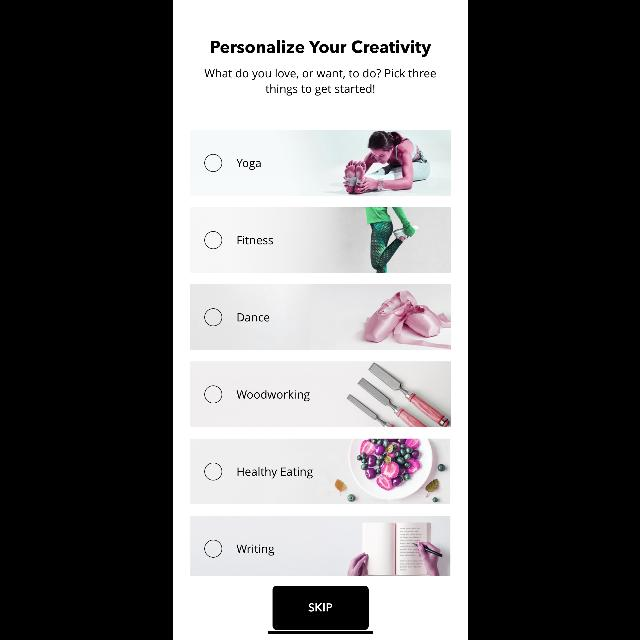backgroundimage: (190, 130, 450, 196), (190, 284, 450, 350), (190, 438, 450, 504), (190, 208, 450, 272), (190, 362, 450, 426), (190, 516, 450, 576)
checkbox: (204, 539, 222, 557), (203, 385, 221, 403), (203, 154, 221, 172), (203, 462, 220, 480), (203, 308, 220, 326), (203, 231, 220, 249)
text: (204, 68, 436, 95), (210, 41, 430, 58), (237, 391, 310, 402), (236, 468, 312, 478), (236, 544, 274, 556), (238, 236, 272, 244), (237, 314, 269, 322), (236, 160, 260, 170)
textbutton: (272, 586, 368, 630)
